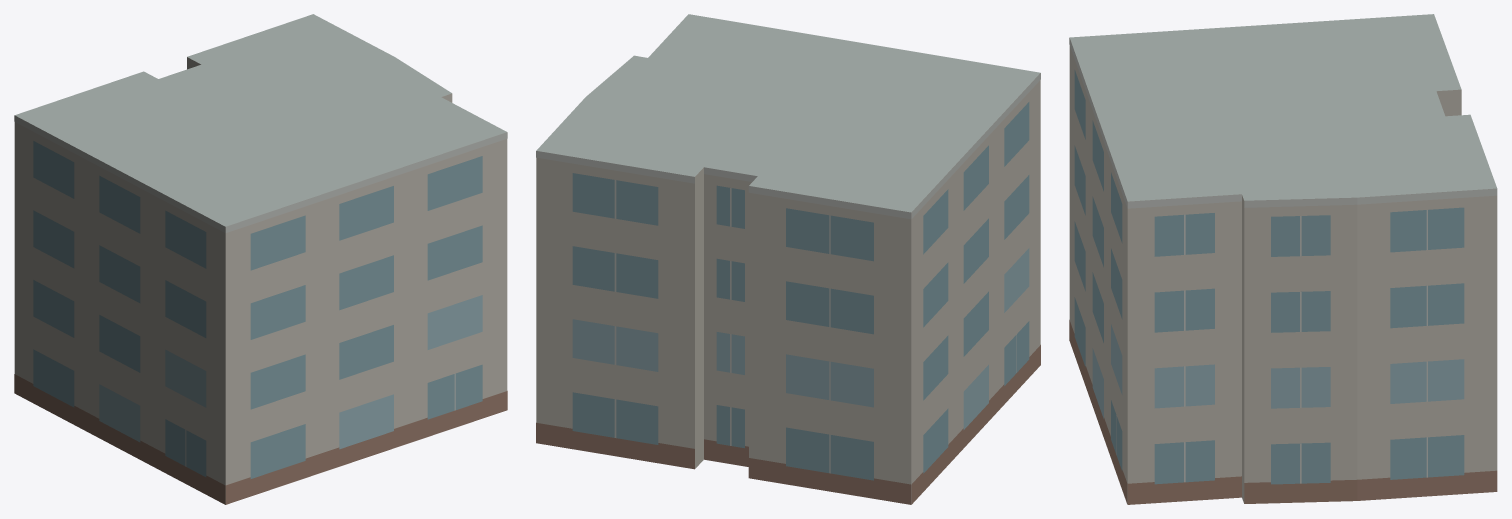
File: survey-upis-32577193.glb
The picture shows the model from 3 angles, left to right: view 1: azimuth 30°, elevation 25°; view 2: azimuth 150°, elevation 25°; view 3: azimuth 270°, elevation 25°; orthographic projection. The views are drawn at different scales.
Visible parts, largest first — view 1: survey-upis-32577193.tmp; view 2: survey-upis-32577193.tmp; view 3: survey-upis-32577193.tmp.
Part boxes in pixels (box(x1,y1,x2,y2)): survey-upis-32577193.tmp: box(14, 14, 507, 504); survey-upis-32577193.tmp: box(536, 14, 1040, 504); survey-upis-32577193.tmp: box(1069, 14, 1497, 504).
Size of the model in its own units: 13.8 by 10.4 by 13.3.
